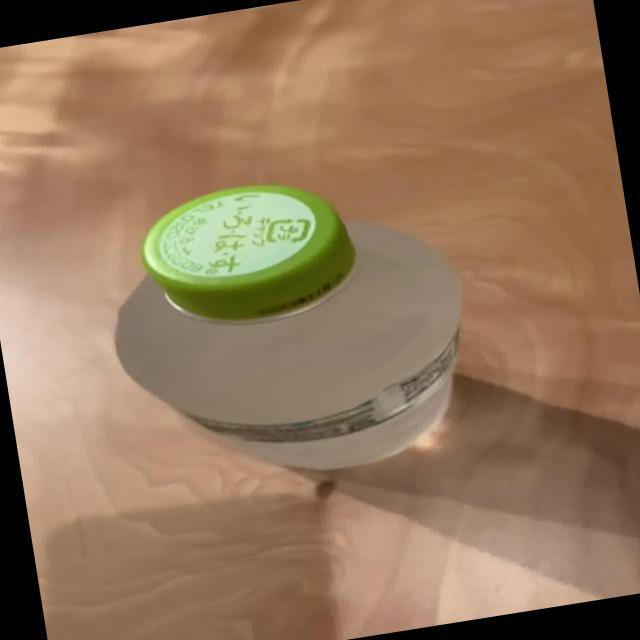good: (88, 152, 485, 502)
